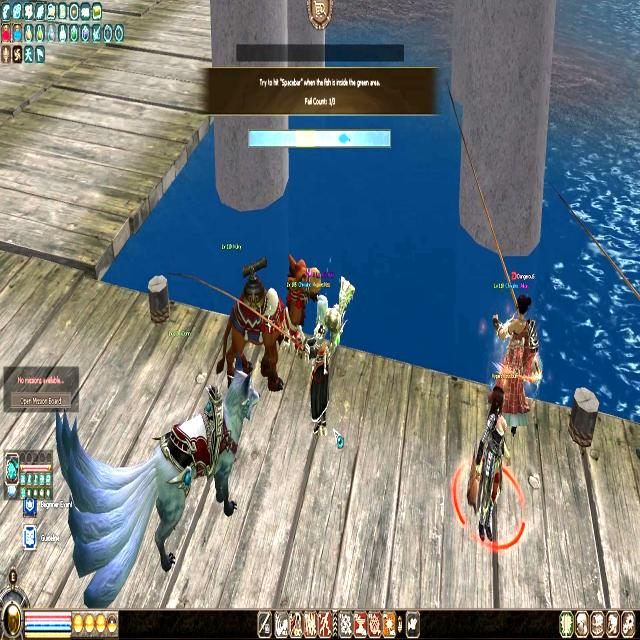fishes: (338, 132, 351, 145)
